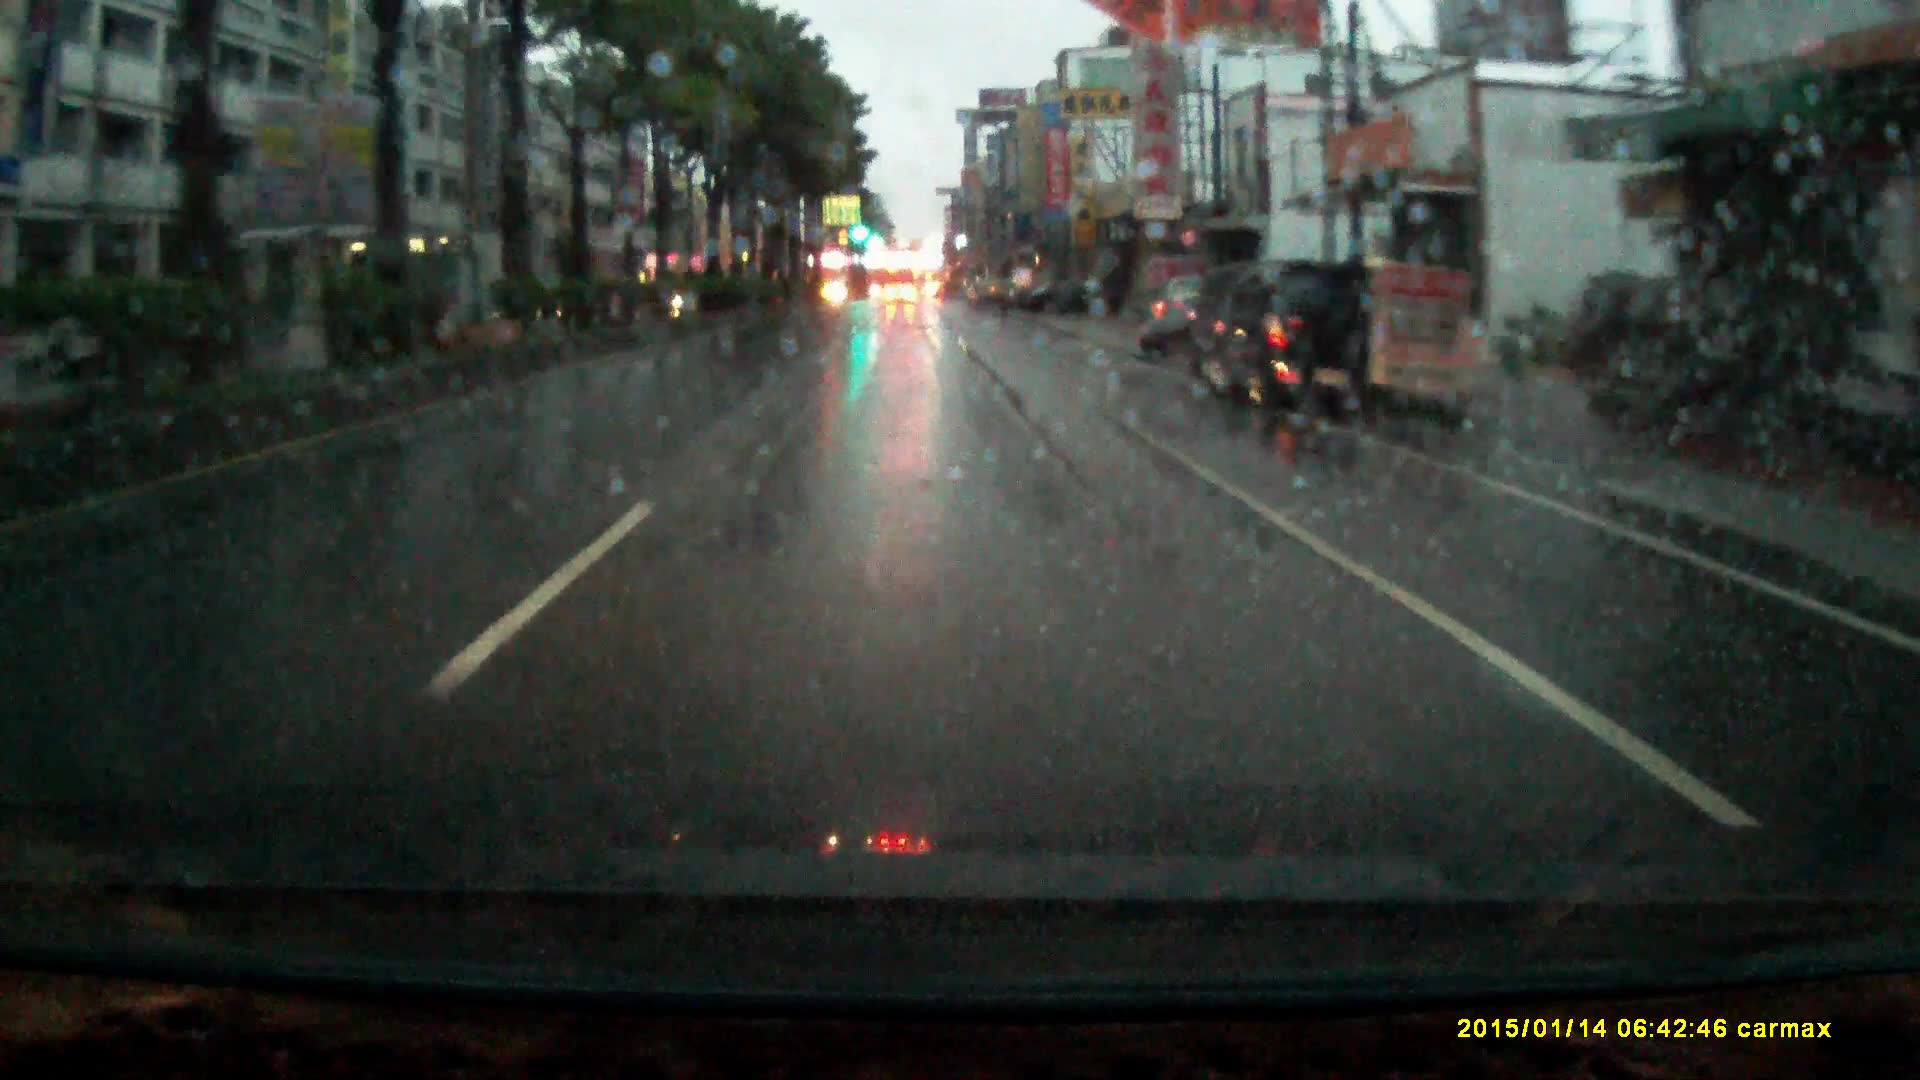vehicle: (1207, 266, 1404, 436), (884, 287, 918, 313)
